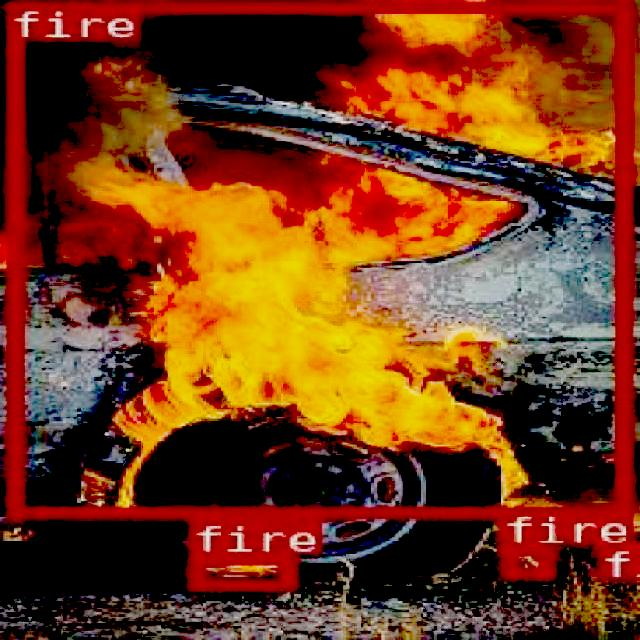fire: (4, 1, 630, 516), (186, 551, 292, 587), (498, 542, 551, 576), (596, 540, 630, 574)
